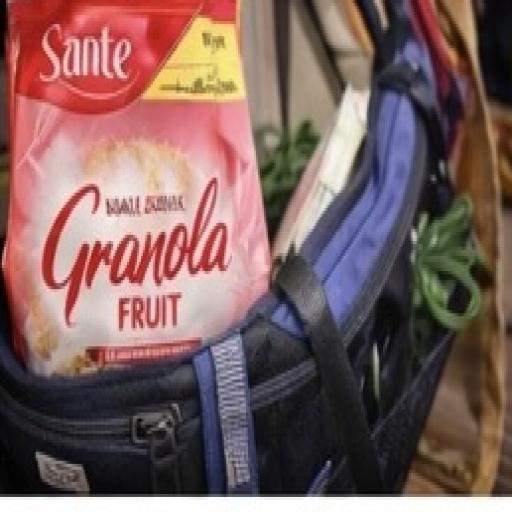granola: (0, 0, 302, 434)
